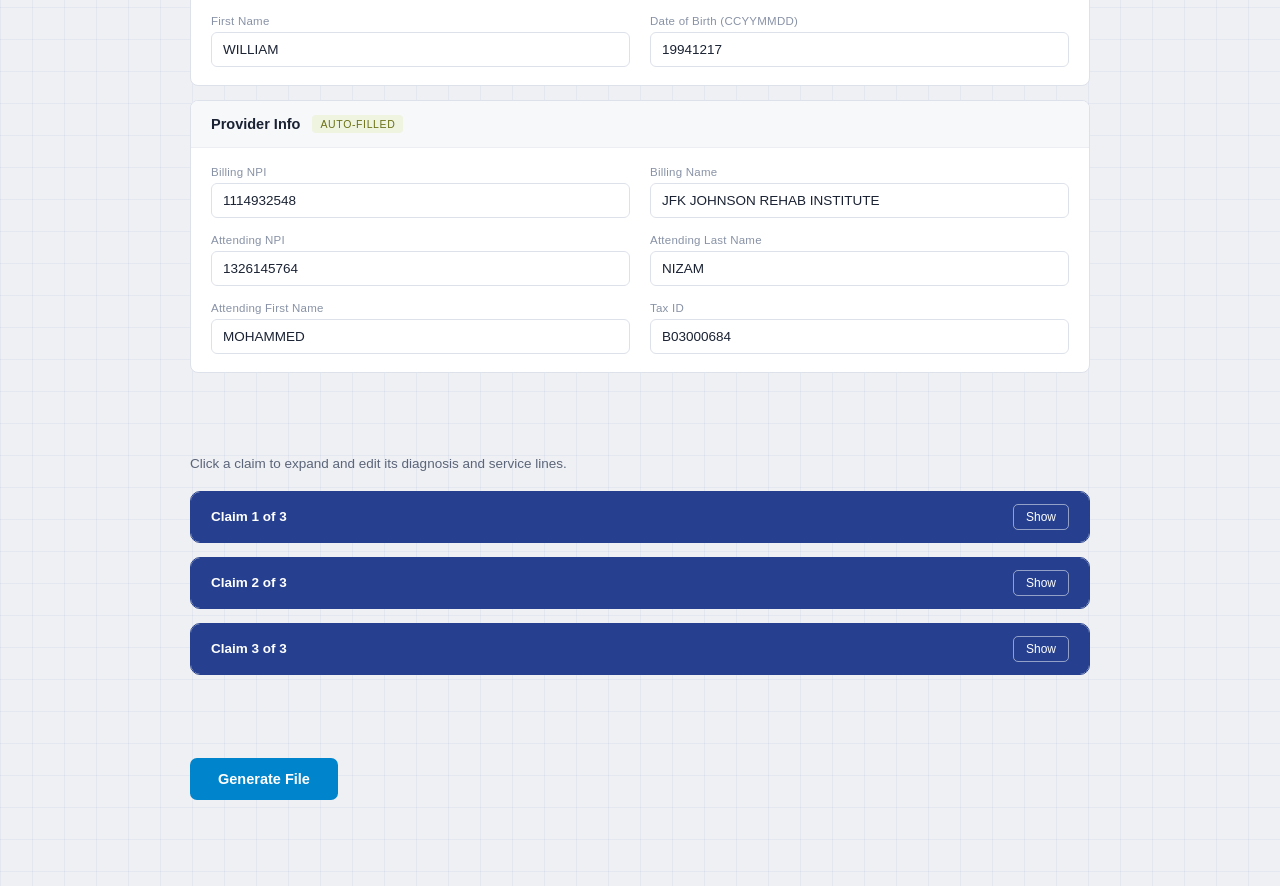
it: the generate button › reverts to blue on the next edit
(page scrolled)
Click the button "Generate File". click: (264,778)
box: [190, 758, 338, 800]
(page scrolled)
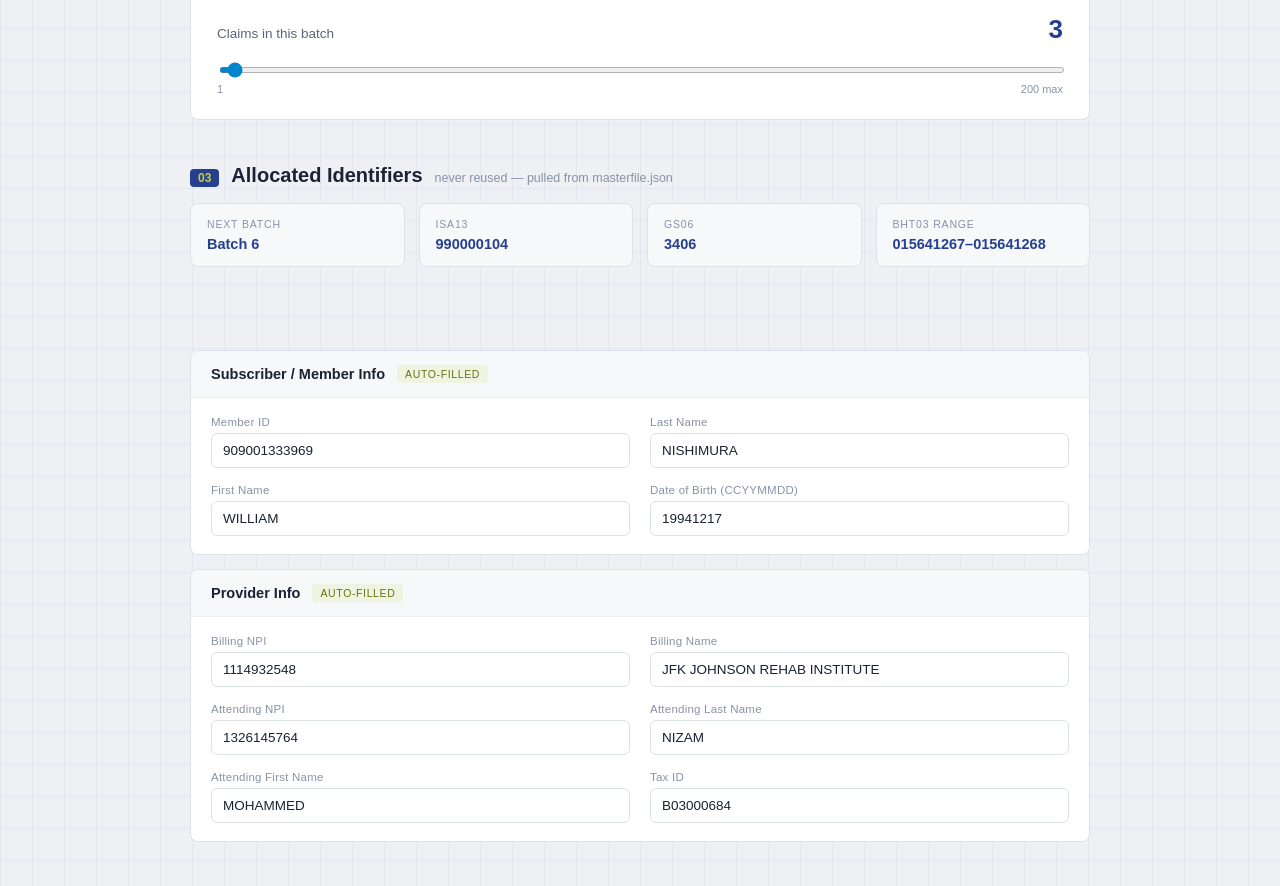
Replace the text in the field labelled "Last Name" with "DOE". click: (860,450)
box: [650, 432, 1069, 468]
(page scrolled)
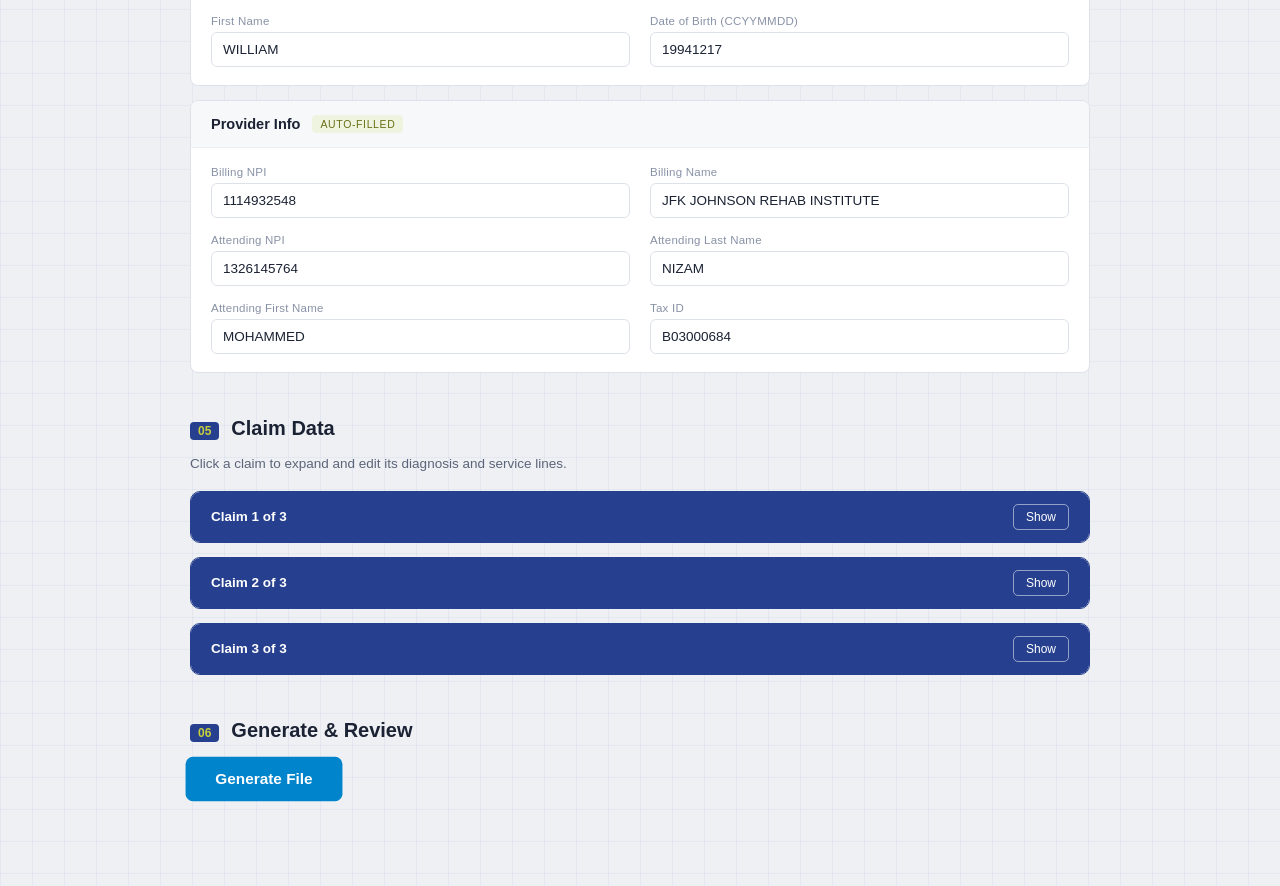
Check: the button "Generate File" is shown, box [186, 756, 342, 801]
